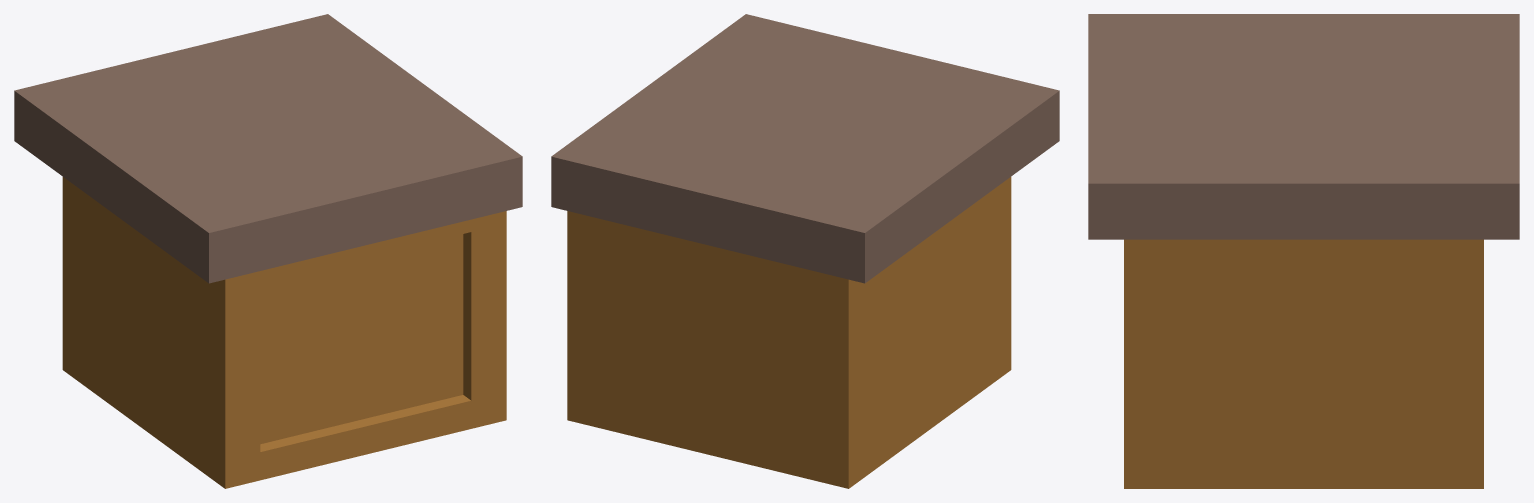
The model's file is counter left corner 1.fbx.
The picture shows the model from 3 angles, left to right: view 1: azimuth 30°, elevation 25°; view 2: azimuth 150°, elevation 25°; view 3: azimuth 270°, elevation 25°; orthographic projection. The views are drawn at different scales.
Parts seen in each view (by area): view 1: left_counter; view 2: left_counter; view 3: left_counter.
Part boxes in pixels (x1,y1,x2,y2): left_counter: [14, 14, 522, 488]; left_counter: [551, 14, 1059, 488]; left_counter: [1088, 14, 1519, 488].
Size of the model in its own units: 100 by 84.29 by 108.
Materials: 2 (2 with a texture image).
